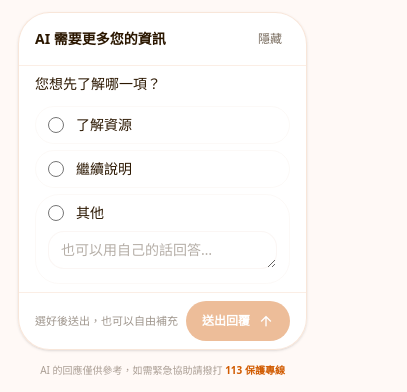
it: ChatInput › restores the composer after submission and forwards structured answers alongside model context
Type "  我想先休息  " into the text box named "其他補充".
click(162, 250); type("  我想先休息  ")  # box x1=48 y1=231 x2=277 y2=269
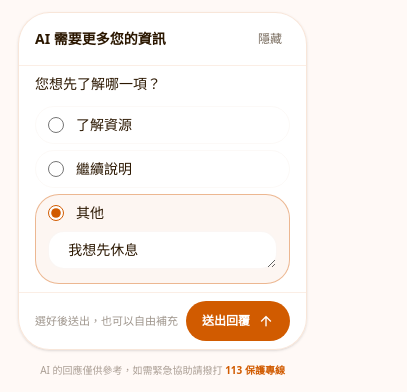
Click the button "送出回覆".
click(238, 321)  # box x1=186 y1=301 x2=290 y2=341
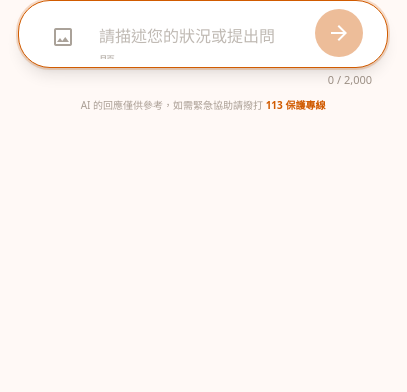
Expected: the text box with placeholder "請描述您的狀況或提出問題…" is shown, x1=83 y1=13 x2=315 y2=59
Expected: the radio button is gone
